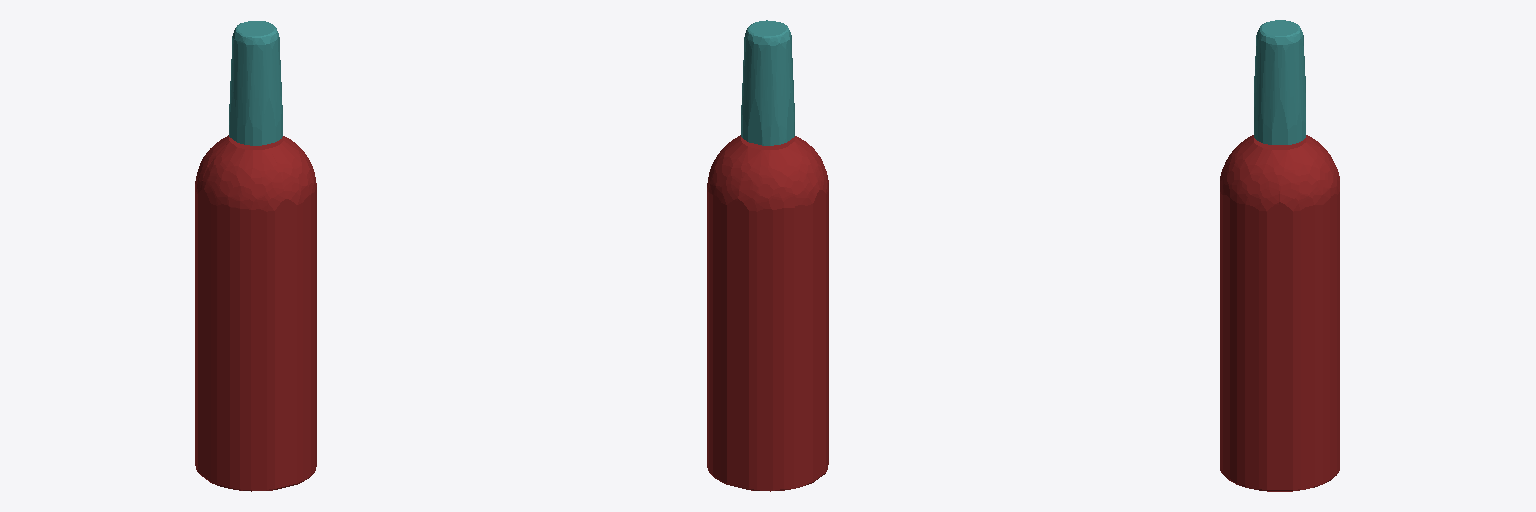
URDF robot description (root):
<robot name="root">
  <link name="bottle_body">
    <inertial>
      <origin xyz="0 0 0" rpy="0 0 0"/>
    </inertial>
    <mass value="1.00E-02"/>
    <visual>
      <origin xyz="0 0 0" rpy="0 0 0"/>
      <geometry>
        <mesh filename="core-bottle-26e6f23bf6baea05fe5c8ffd0f5eba47-coacd_convex_piece_1.obj" scale="1.0000E-01 1.0000E-01 1.0000E-01"/>
      </geometry>
      <material name="">
        <color rgba="6.00E-01 2.00E-01 2.00E-01 1"/>
      </material>
    </visual>
    <collision>
      <origin xyz="0 0 0" rpy="0 0 0"/>
      <geometry>
        <mesh filename="core-bottle-26e6f23bf6baea05fe5c8ffd0f5eba47-coacd_convex_piece_1.obj" scale="1.0000E-01 1.0000E-01 1.0000E-01"/>
      </geometry>
    </collision>
    <visual>
      <origin xyz="0 0 0" rpy="0 0 0"/>
      <geometry>
        <mesh filename="core-bottle-26e6f23bf6baea05fe5c8ffd0f5eba47-coacd_convex_piece_2.obj" scale="1.0000E-01 1.0000E-01 1.0000E-01"/>
      </geometry>
      <material name="">
        <color rgba="6.00E-01 2.00E-01 2.00E-01 1"/>
      </material>
    </visual>
    <collision>
      <origin xyz="0 0 0" rpy="0 0 0"/>
      <geometry>
        <mesh filename="core-bottle-26e6f23bf6baea05fe5c8ffd0f5eba47-coacd_convex_piece_2.obj" scale="1.0000E-01 1.0000E-01 1.0000E-01"/>
      </geometry>
    </collision>
    <visual>
      <origin xyz="0 0 0" rpy="0 0 0"/>
      <geometry>
        <mesh filename="core-bottle-26e6f23bf6baea05fe5c8ffd0f5eba47-coacd_convex_piece_4.obj" scale="1.0000E-01 1.0000E-01 1.0000E-01"/>
      </geometry>
      <material name="">
        <color rgba="6.00E-01 2.00E-01 2.00E-01 1"/>
      </material>
    </visual>
    <collision>
      <origin xyz="0 0 0" rpy="0 0 0"/>
      <geometry>
        <mesh filename="core-bottle-26e6f23bf6baea05fe5c8ffd0f5eba47-coacd_convex_piece_4.obj" scale="1.0000E-01 1.0000E-01 1.0000E-01"/>
      </geometry>
    </collision>
    <visual>
      <origin xyz="0 0 0" rpy="0 0 0"/>
      <geometry>
        <mesh filename="core-bottle-26e6f23bf6baea05fe5c8ffd0f5eba47-coacd_convex_piece_3.obj" scale="1.0000E-01 1.0000E-01 1.0000E-01"/>
      </geometry>
      <material name="">
        <color rgba="6.00E-01 2.00E-01 2.00E-01 1"/>
      </material>
    </visual>
    <collision>
      <origin xyz="0 0 0" rpy="0 0 0"/>
      <geometry>
        <mesh filename="core-bottle-26e6f23bf6baea05fe5c8ffd0f5eba47-coacd_convex_piece_3.obj" scale="1.0000E-01 1.0000E-01 1.0000E-01"/>
      </geometry>
    </collision>
  </link>
  <link name="bottle_cap">
    <origin xyz="0 0 0.002" rpy="0 0 0"/>
    <mass value="1.00E-02"/>
    <visual>
      <origin xyz="0 0 0.002" rpy="0 0 0"/>
      <geometry>
        <mesh filename="core-bottle-26e6f23bf6baea05fe5c8ffd0f5eba47-coacd_convex_piece_0.obj" scale="1.0000E-01 1.0000E-01 1.0000E-01"/>
      </geometry>
      <material name="">
        <color rgba="3.00E-01 6.00E-01 6.00E-01 1"/>
      </material>
    </visual>
    <collision>
      <origin xyz="0 0 0.002" rpy="0 0 0"/>
      <geometry>
        <mesh filename="core-bottle-26e6f23bf6baea05fe5c8ffd0f5eba47-coacd_convex_piece_0.obj" scale="1.0000E-01 1.0000E-01 1.0000E-01"/>
      </geometry>
    </collision>
  </link>
  <joint name="bottle_cap_joint" type="revolute">
    <origin xyz="0 0 0" rpy="0 0 0"/>
    <parent link="bottle_body"/>
    <child link="bottle_cap"/>
    <axis xyz="0 0 1"/>
    <limit lower="0.00" upper="6.28"/>
    <dynamics damping="0.05"/>
  </joint>
</robot>

--- Render facts (derived) ---
3 views of the same robot in one strip: view 1: azimuth 30°, elevation 25°; view 2: azimuth 150°, elevation 25°; view 3: azimuth 270°, elevation 25° (orthographic).
Robot: root — 2 links, 1 joints (1 revolute); root link bottle_body; default pose: every joint at zero.
Visible links, largest first — view 1: bottle_body, bottle_cap; view 2: bottle_body, bottle_cap; view 3: bottle_body, bottle_cap.
Boxes of the visible links, <box> form: bottle_body: <box>195,135,316,491</box>; bottle_cap: <box>229,21,282,145</box>; bottle_body: <box>707,135,828,491</box>; bottle_cap: <box>741,20,794,145</box>; bottle_body: <box>1220,135,1339,491</box>; bottle_cap: <box>1254,20,1305,144</box>.
Size in the robot's own frame: 0.0476 by 0.0476 by 0.1923 metres.
5 mesh visuals loaded from 5 distinct referenced files (5 OBJ).